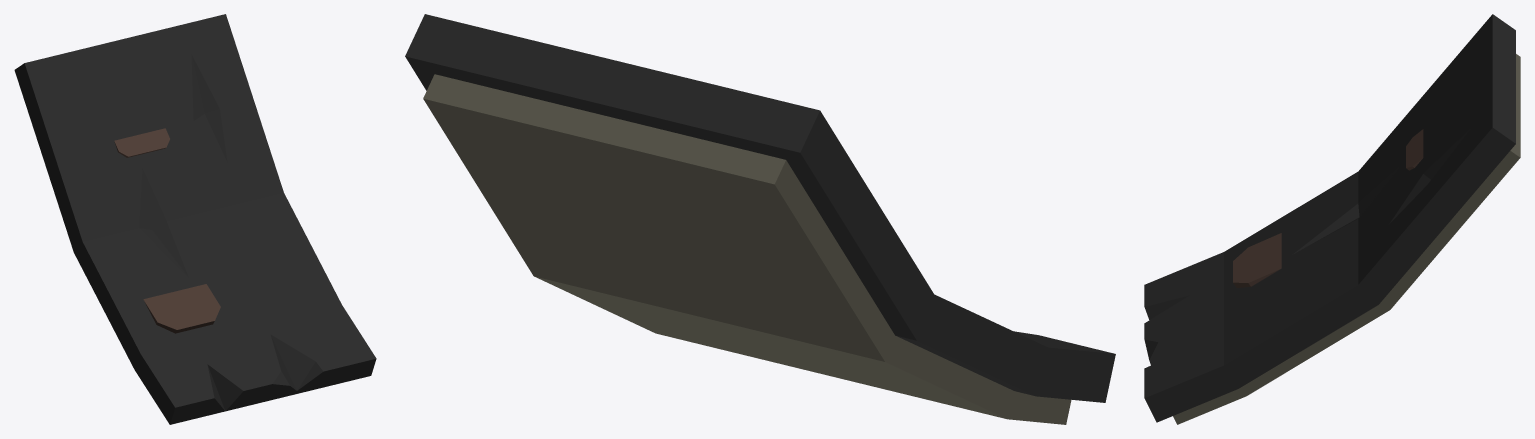
File: LPHorror_RoofLower.fbx
3 renders of one model, left to right at view 1: azimuth 30°, elevation 25°; view 2: azimuth 150°, elevation 25°; view 3: azimuth 270°, elevation 25°, orthographic. The views are drawn at different scales.
Visible parts, largest first — view 1: RoofLower; view 2: RoofLower; view 3: RoofLower.
Boxes of the visible parts, x1,y1,x2,y2 form: RoofLower: (14, 14, 376, 424); RoofLower: (405, 14, 1115, 424); RoofLower: (1144, 14, 1520, 424).
Bounding box in the file's own units: 200 × 249 × 280.
